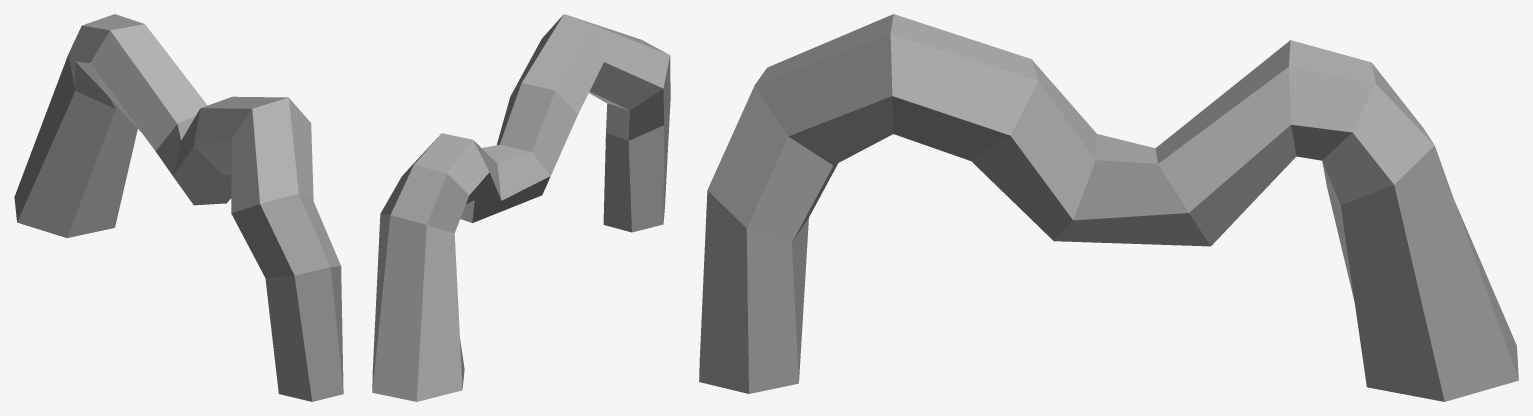
The model's file is SM_Gen_Env_Root_02.glb.
3 renders of one model, left to right at view 1: azimuth 30°, elevation 25°; view 2: azimuth 150°, elevation 25°; view 3: azimuth 270°, elevation 25°, orthographic. The views are drawn at different scales.
Visible parts, largest first — view 1: SM_Gen_Env_Root_02; view 2: SM_Gen_Env_Root_02; view 3: SM_Gen_Env_Root_02.
Part boxes in pixels (<box>): SM_Gen_Env_Root_02: <box>14,14,343,401</box>; SM_Gen_Env_Root_02: <box>372,14,670,401</box>; SM_Gen_Env_Root_02: <box>699,14,1518,401</box>.
Bounding box in the file's own units: 0.433 × 0.8838 × 1.82.
Materials: 1 (1 with a texture image).
